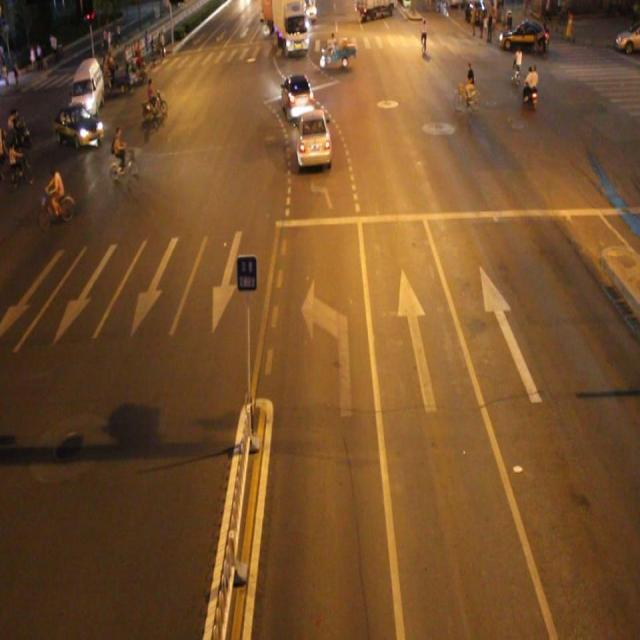car: (293, 108, 332, 171), (56, 105, 104, 145), (278, 70, 315, 121)
